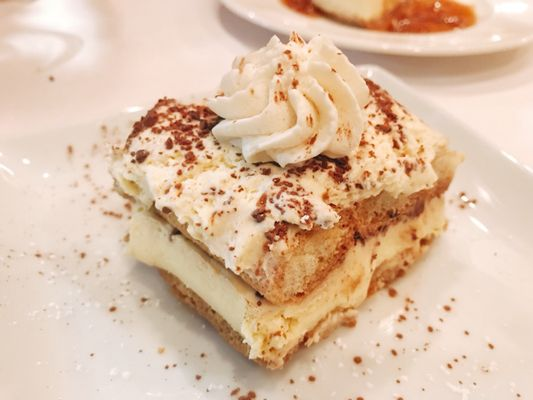curry: (22, 1, 532, 400)
sushi: (109, 27, 464, 370)
